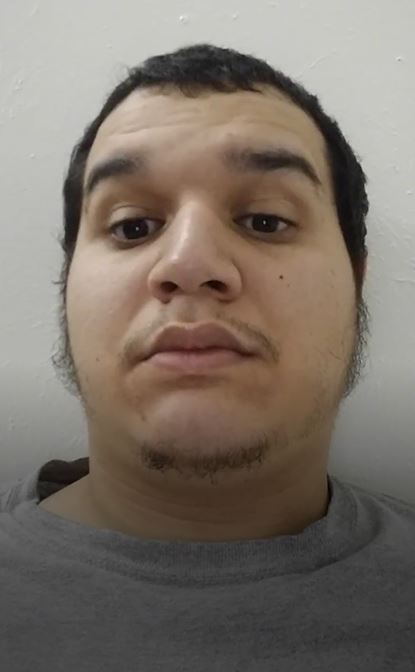Not Sleeping: (82, 181, 322, 257)
